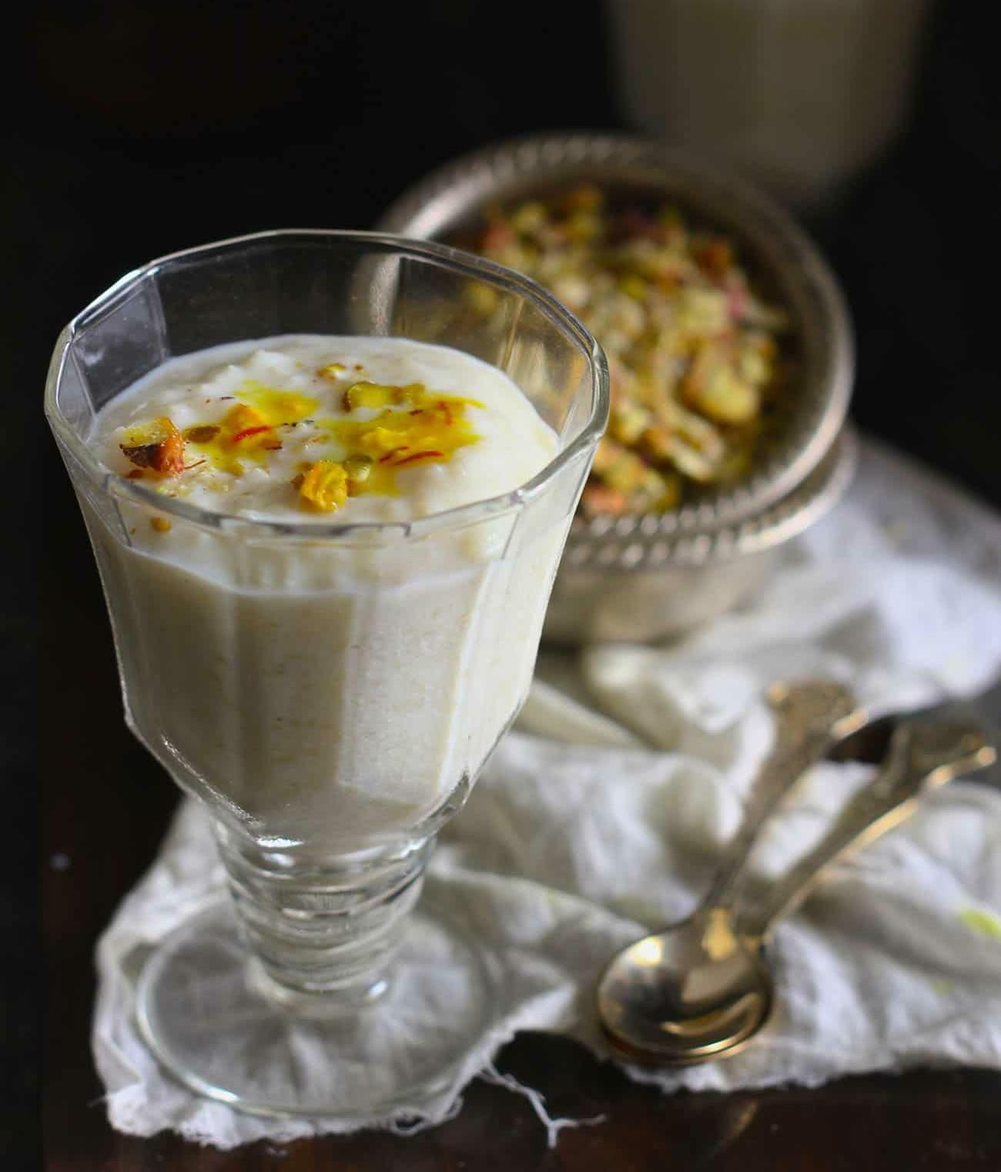Kheer: (83, 340, 566, 868)
